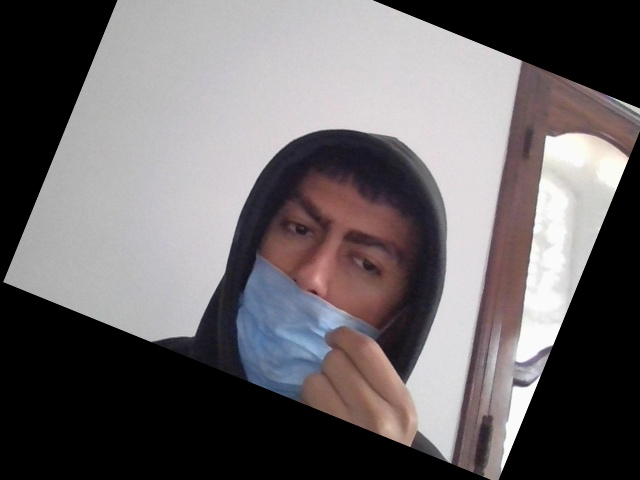mask_weared_incorrect: (232, 154, 419, 415)
